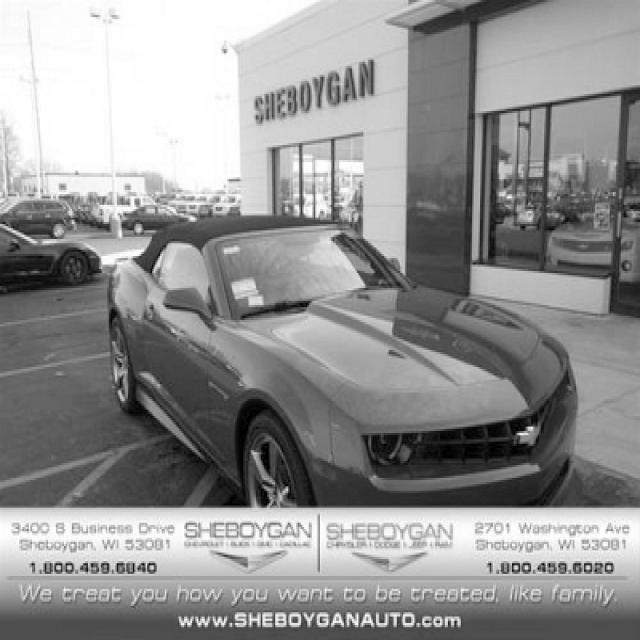car: (106, 211, 579, 508)
